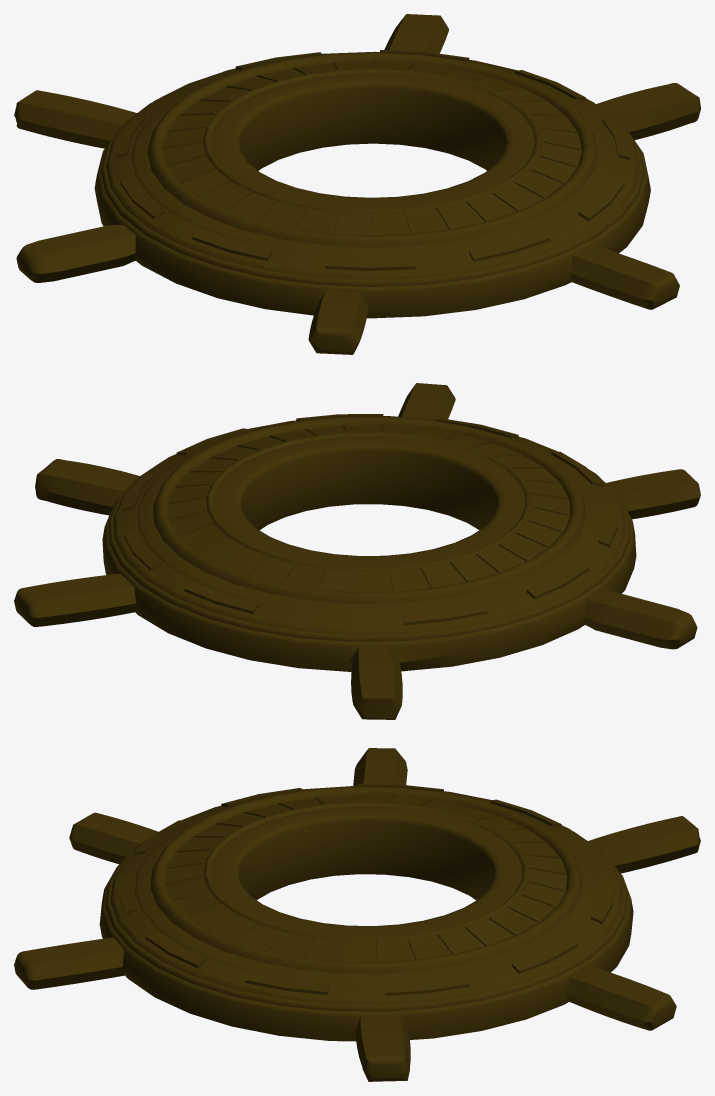
Rendered from V2_bot.fbx.
3 renders of one model, top to bottom at view 1: azimuth 30°, elevation 25°; view 2: azimuth 150°, elevation 25°; view 3: azimuth 270°, elevation 25°, orthographic. The views are drawn at different scales.
Visible parts, largest first — view 1: Main Base; view 2: Main Base; view 3: Main Base.
Boxes of the visible parts, box(x1,y1,x2,y2) form: Main Base: box(14, 14, 700, 354); Main Base: box(14, 383, 700, 719); Main Base: box(14, 748, 700, 1081).
Bounding box in the file's own units: 283 × 25.8 × 261.
